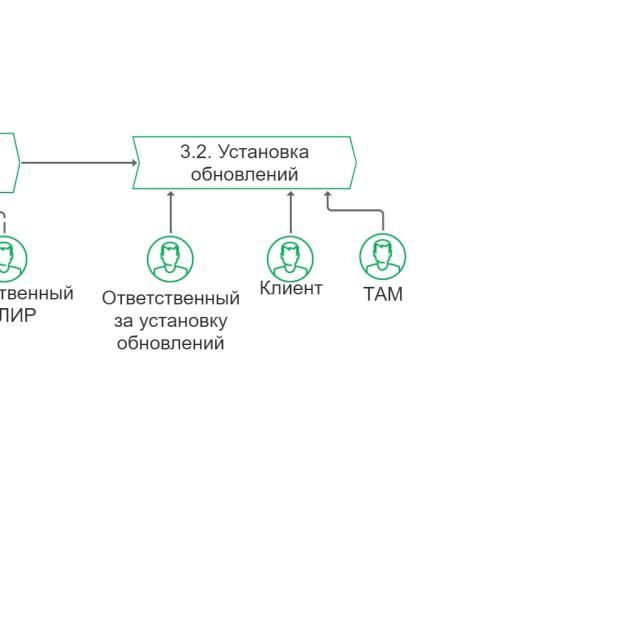arrow: (18, 150, 138, 171)
rectangle: (132, 133, 360, 192)
text_region: (99, 287, 242, 354), (256, 276, 325, 299), (363, 284, 405, 304)
